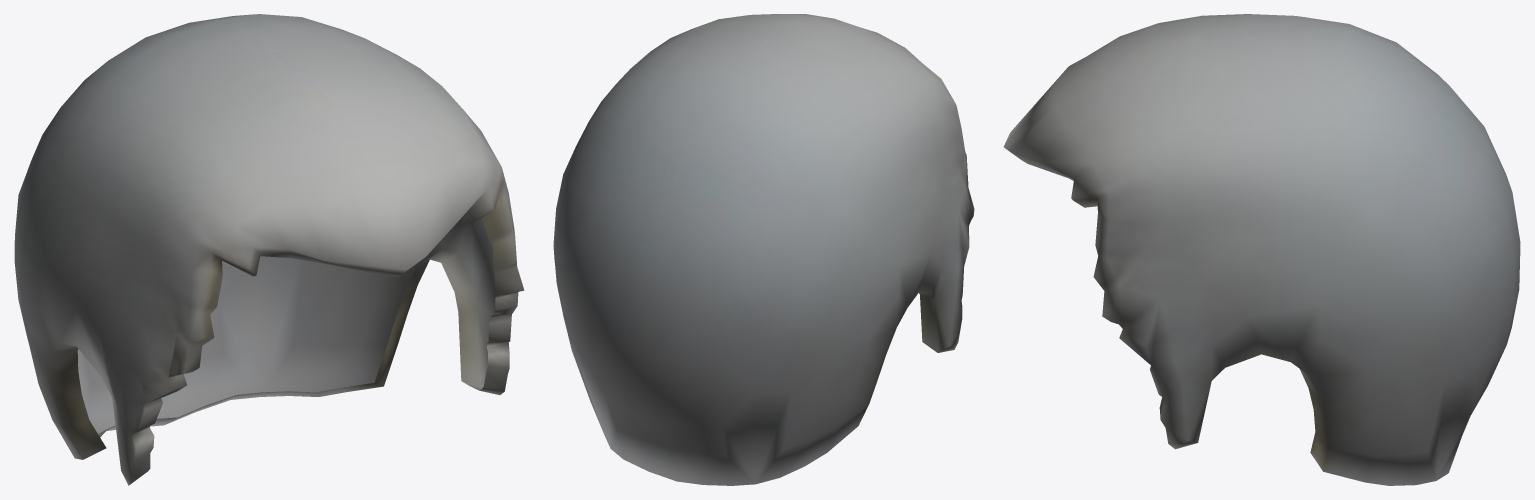
The model's file is cheveux_buzzed.glb.
3 views of the same model, side by side, from view 1: azimuth 30°, elevation 25°; view 2: azimuth 150°, elevation 25°; view 3: azimuth 270°, elevation 25° (orthographic). The views are drawn at different scales.
Visible parts, largest first — view 1: Hair_Buzzed; view 2: Hair_Buzzed; view 3: Hair_Buzzed.
Boxes of the visible parts, x1,y1,x2,y2 form: Hair_Buzzed: [14, 14, 524, 485]; Hair_Buzzed: [553, 14, 974, 485]; Hair_Buzzed: [1003, 14, 1520, 485].
Size of the model in its own units: 0.1546 by 0.1694 by 0.1909.
1 material, 1 textured.
